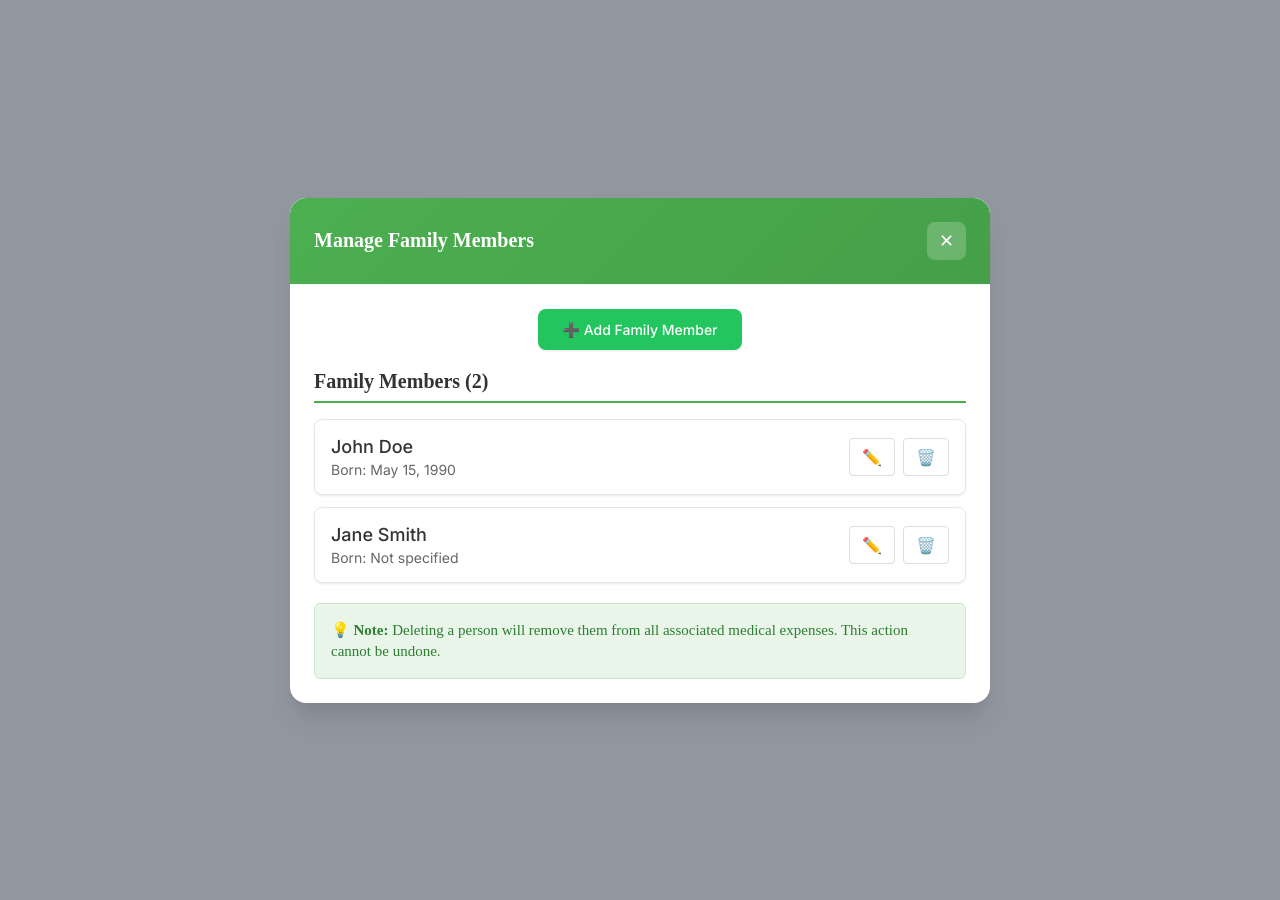
Scenario: PeopleManagementModal › Person Creation › should show validation error for empty name
Check: the text "John Doe" is shown, box [331,436,413,456]
Open add form
Click the button "➕ Add Family Member" at (640, 329), box [538,308,742,350]
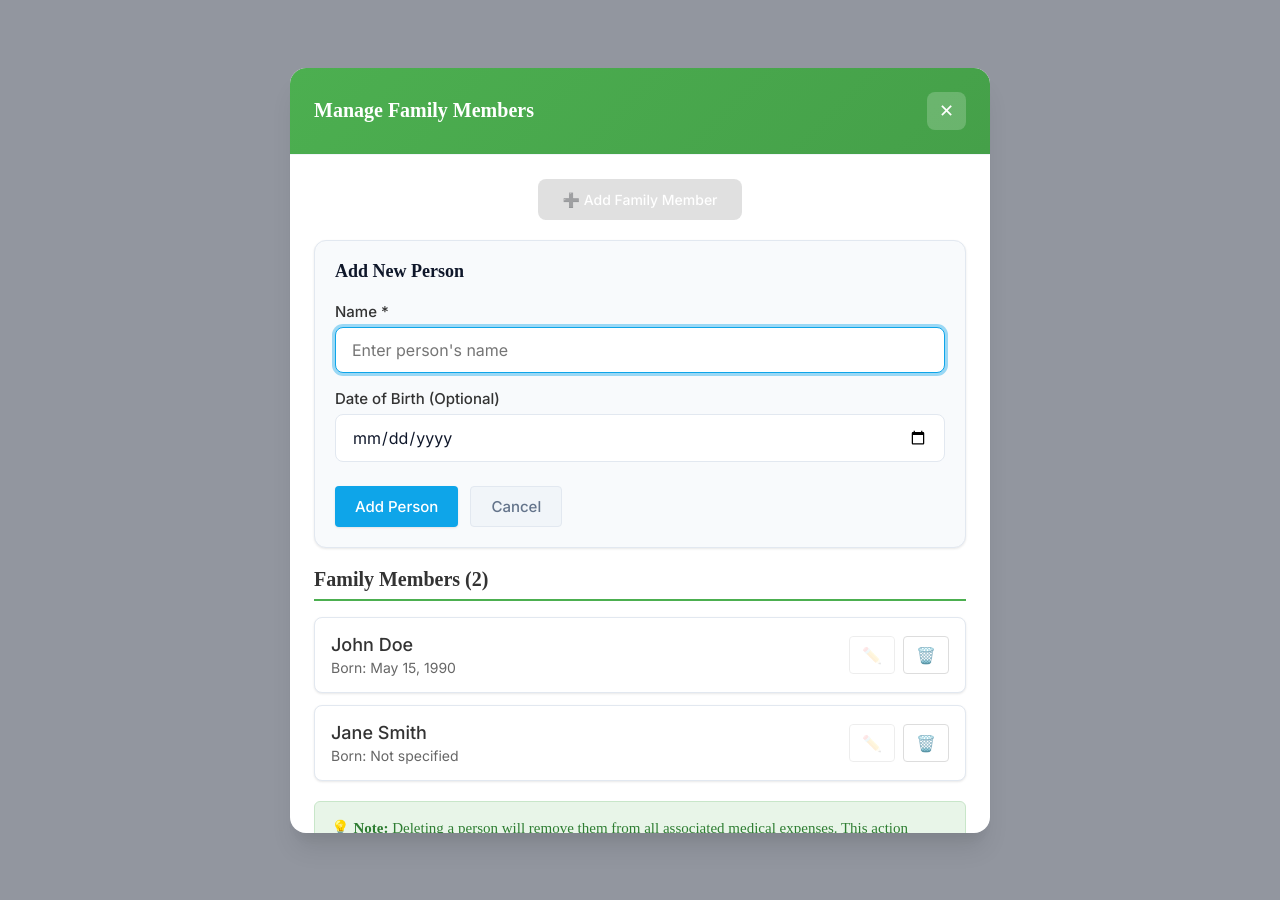
Submit without name
Click the button "Add Person" at (397, 506), box [335,486,458,526]
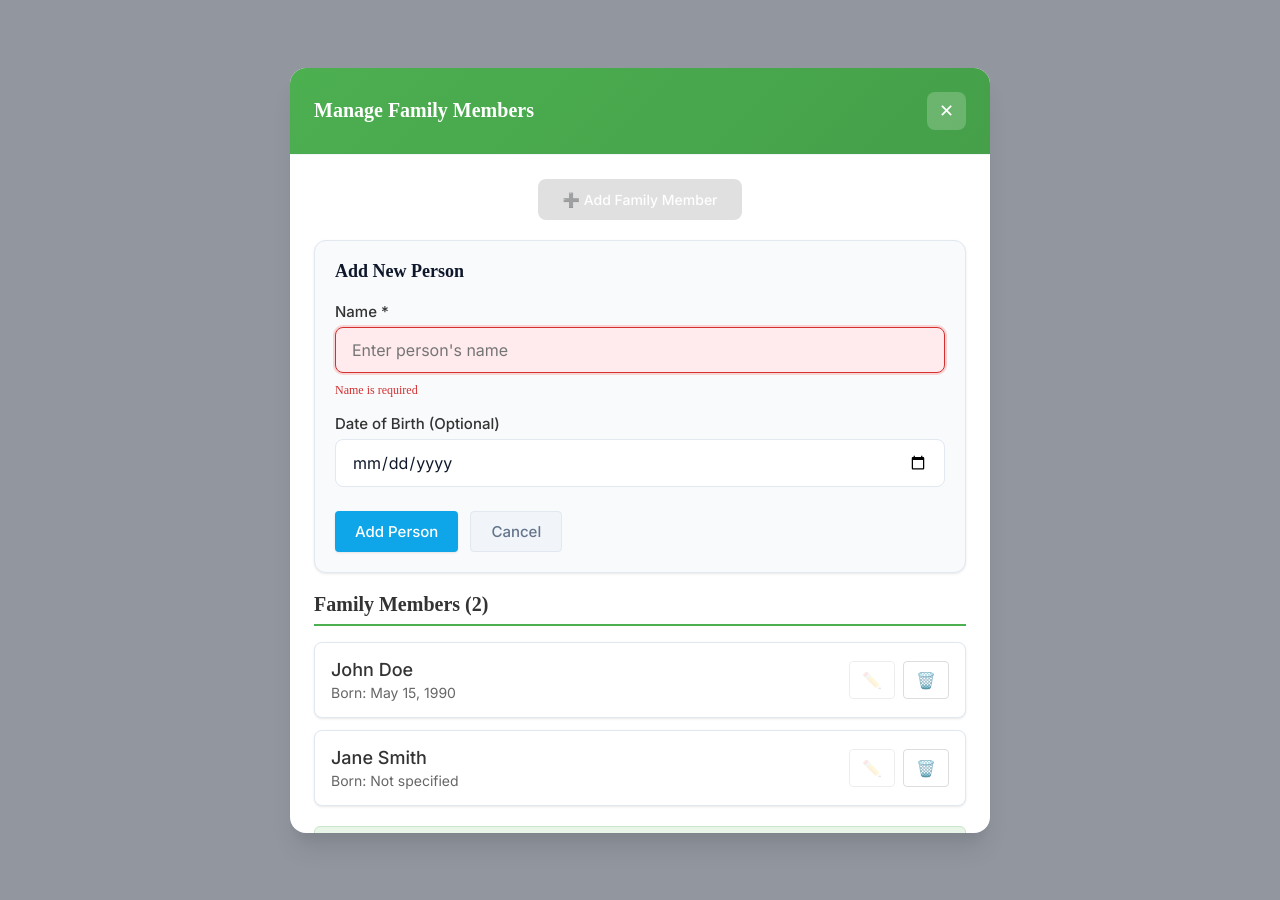
Check: the text "Name is required" is shown, box [335,382,418,396]
